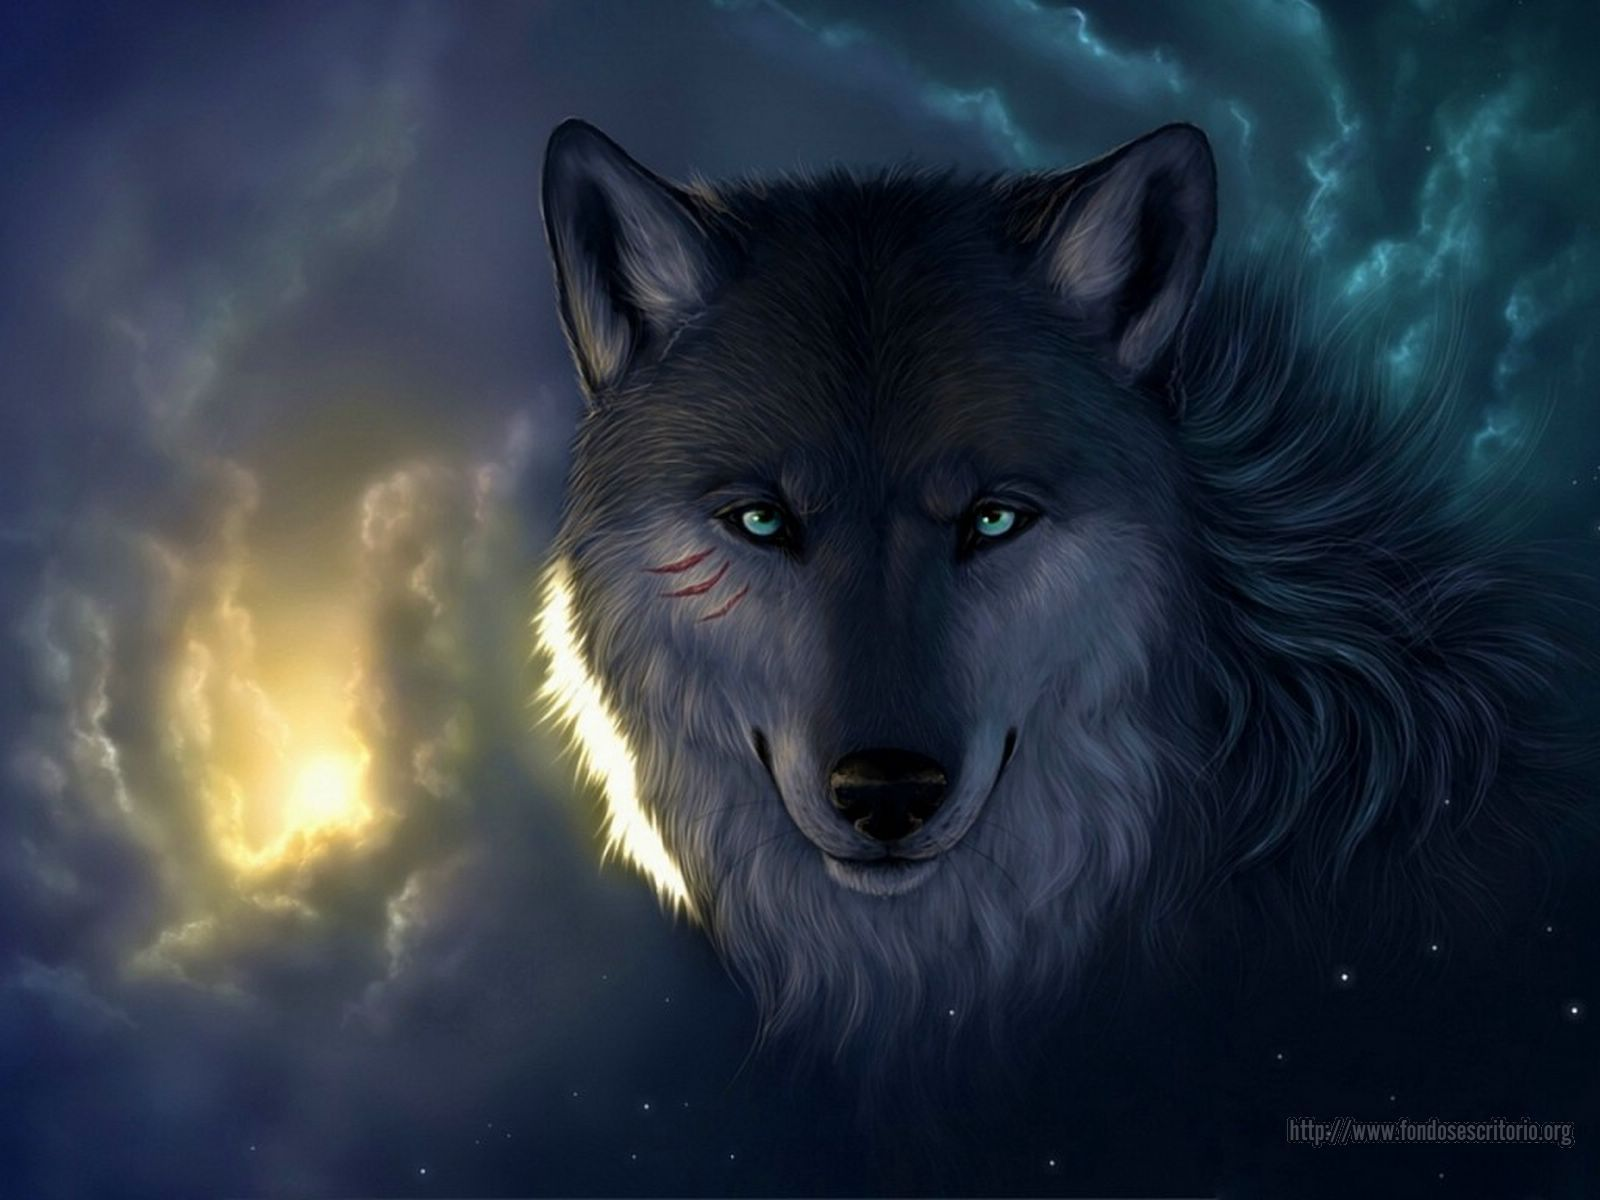Lobo: (460, 84, 1419, 1029)
